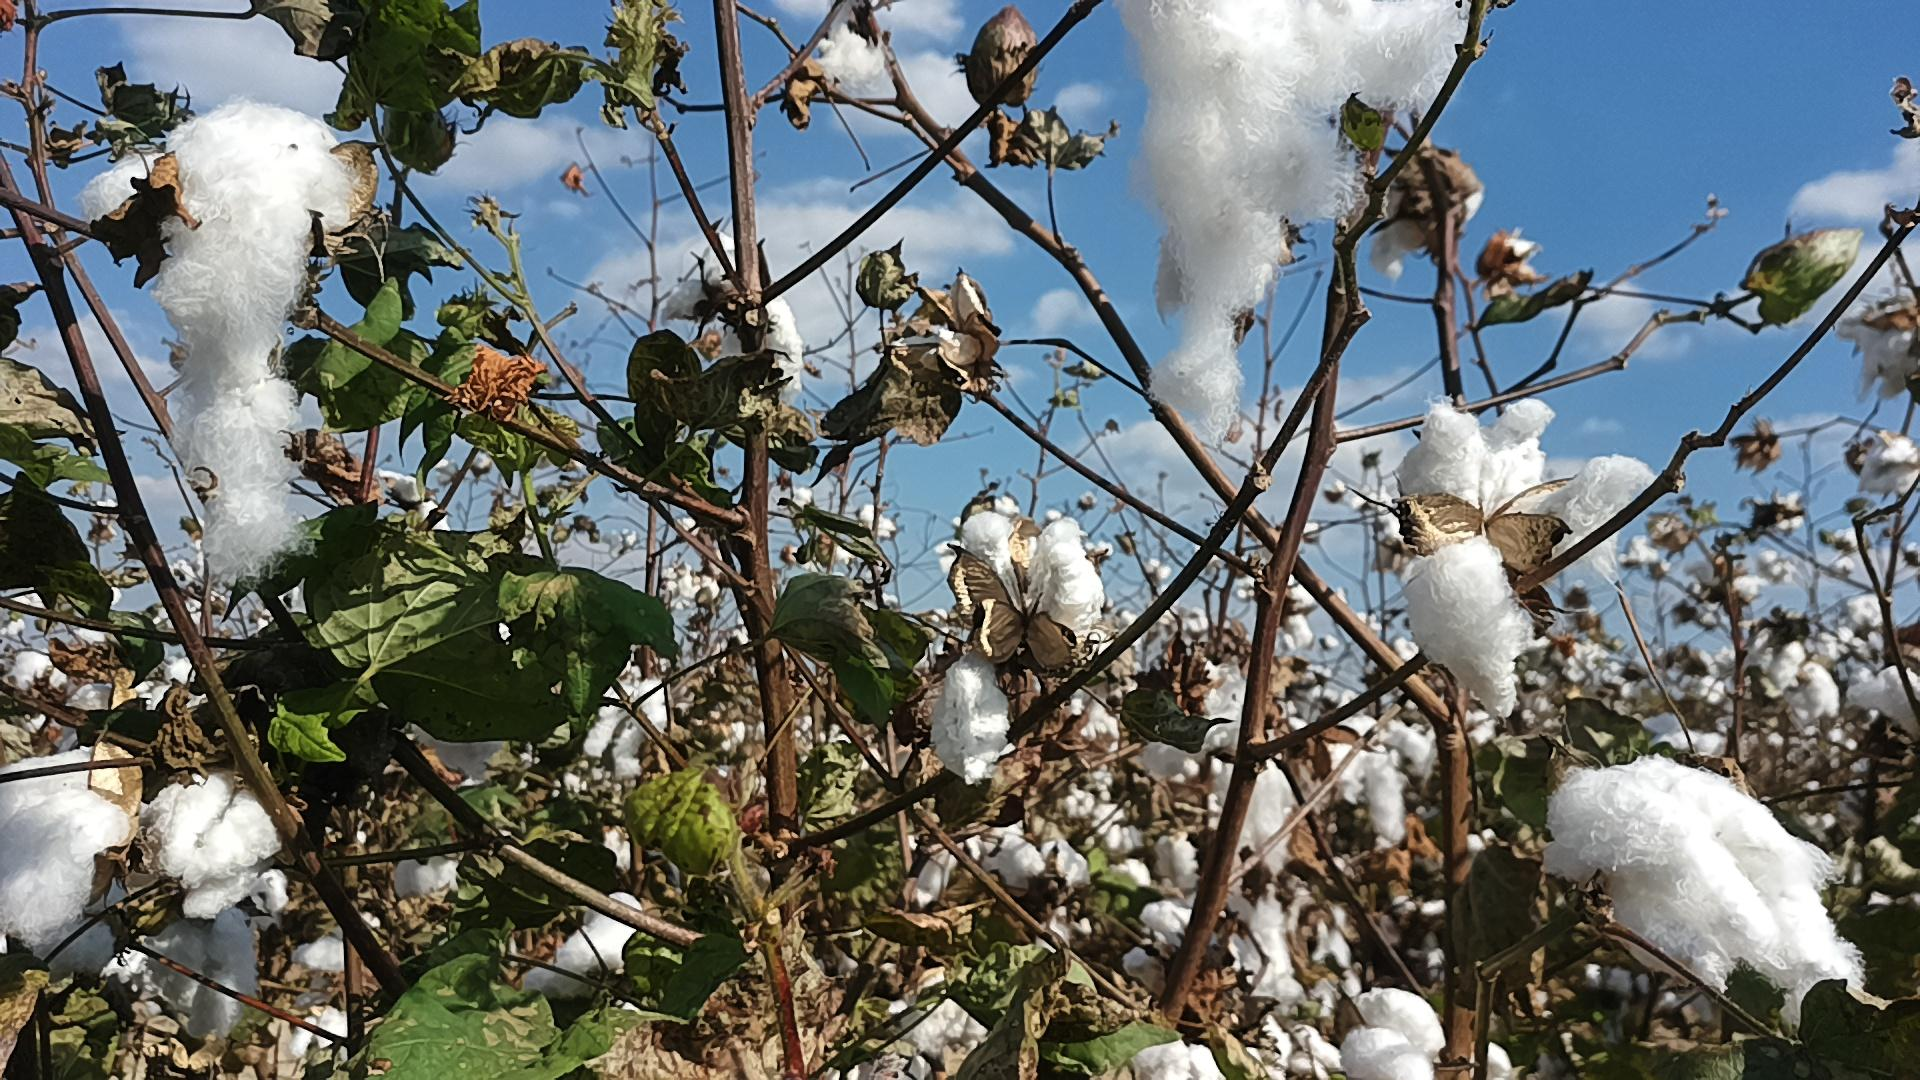cotton_ready: (1108, 0, 1476, 451), (73, 100, 378, 583), (1538, 754, 1873, 1033), (1398, 401, 1660, 723), (930, 496, 1105, 787), (0, 745, 152, 985), (140, 767, 309, 923), (659, 231, 808, 404), (102, 907, 268, 1038), (514, 886, 655, 1006), (878, 278, 981, 381), (1340, 988, 1451, 1080), (812, 21, 887, 94), (1124, 1035, 1236, 1080)
